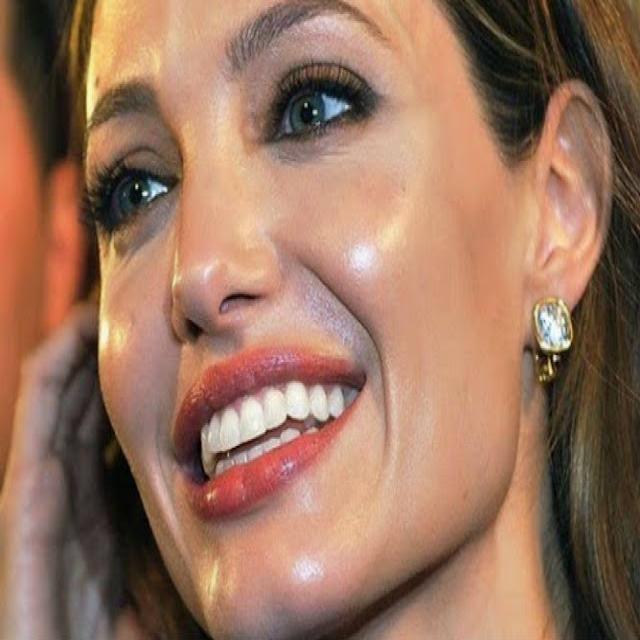Oily-Skin: (144, 454, 191, 572), (344, 196, 410, 280), (196, 559, 242, 640), (100, 308, 134, 378), (288, 550, 326, 588), (294, 479, 316, 517)
